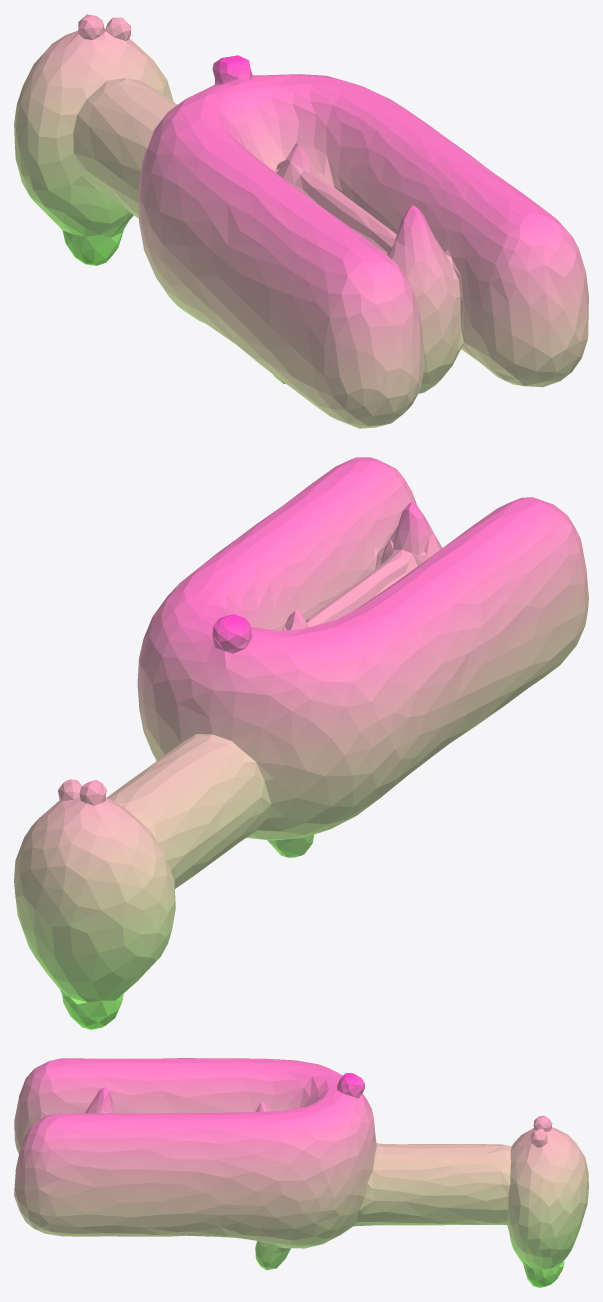
Rendered from 163_cyb_laser_gradient_fish_scales_2852_2026_10_03_b3b375.glb.
The picture shows the model from 3 angles, top to bottom: view 1: azimuth 30°, elevation 25°; view 2: azimuth 150°, elevation 25°; view 3: azimuth 270°, elevation 25°; orthographic projection. The views are drawn at different scales.
Parts seen in each view (by area): view 1: geometry_0; view 2: geometry_0; view 3: geometry_0.
Part boxes in pixels (box(x1,y1,x2,y2)): geometry_0: box(14, 14, 588, 428); geometry_0: box(14, 457, 588, 1029); geometry_0: box(14, 1058, 588, 1287).
Bounding box in the file's own units: 0.3637 × 0.4054 × 1.
